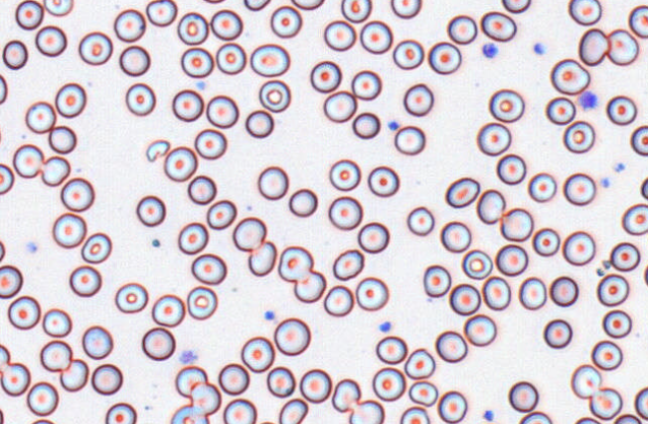PLT: (579, 91, 599, 110), (482, 43, 500, 60), (532, 40, 549, 55), (25, 241, 40, 256), (482, 408, 497, 422), (379, 321, 392, 335), (387, 120, 401, 132), (263, 309, 275, 321), (600, 177, 611, 190)
RBC: (550, 58, 590, 95), (273, 317, 310, 355), (249, 43, 289, 77), (277, 245, 313, 282), (240, 336, 274, 372), (52, 212, 86, 248), (488, 88, 524, 122), (578, 27, 609, 66), (232, 216, 266, 251), (371, 366, 405, 401), (163, 146, 197, 181), (328, 195, 362, 230), (476, 121, 511, 155), (607, 28, 639, 65), (499, 207, 533, 241), (141, 326, 175, 360), (60, 177, 94, 211), (151, 293, 185, 327), (78, 31, 112, 65), (562, 230, 595, 265), (54, 82, 86, 118), (293, 269, 326, 303), (589, 386, 622, 420), (7, 295, 40, 329), (205, 94, 238, 128), (355, 276, 388, 310), (427, 41, 461, 74), (26, 381, 58, 416), (299, 368, 331, 403), (191, 253, 226, 285), (445, 176, 480, 208), (570, 363, 601, 399), (463, 313, 496, 346), (495, 243, 528, 276), (359, 20, 392, 53), (596, 273, 629, 306), (562, 120, 595, 153), (563, 172, 596, 205), (189, 381, 221, 415), (113, 8, 145, 42), (12, 143, 43, 178), (257, 165, 288, 200), (186, 285, 217, 320), (480, 11, 516, 41), (39, 339, 72, 371), (174, 365, 207, 397), (258, 79, 290, 112), (323, 90, 356, 122), (270, 5, 302, 38), (82, 325, 113, 359), (114, 282, 148, 313), (177, 11, 208, 45), (247, 240, 276, 276), (476, 188, 505, 224), (69, 265, 101, 297), (332, 248, 364, 280), (435, 330, 467, 362), (367, 165, 399, 197), (357, 221, 389, 253), (171, 89, 203, 121), (218, 362, 249, 395), (34, 25, 67, 56), (323, 20, 356, 51), (310, 60, 341, 93), (177, 221, 208, 254), (209, 9, 242, 40), (180, 47, 213, 78), (329, 158, 360, 191), (0, 362, 30, 396), (59, 358, 89, 392), (125, 82, 155, 116), (481, 275, 510, 310), (91, 363, 122, 395), (507, 380, 538, 412), (449, 283, 480, 315), (440, 220, 471, 252), (194, 128, 226, 159), (25, 101, 56, 133), (215, 42, 246, 74), (437, 390, 467, 423), (403, 83, 433, 116), (404, 348, 435, 379), (591, 339, 622, 370), (80, 232, 111, 263), (119, 45, 150, 76), (323, 284, 353, 316), (393, 125, 425, 155), (392, 39, 424, 69), (422, 264, 451, 297), (518, 276, 546, 310), (40, 155, 70, 186), (461, 249, 492, 279), (496, 153, 526, 184), (609, 241, 640, 271), (351, 69, 381, 100), (446, 14, 477, 44), (606, 95, 637, 125), (375, 335, 407, 364), (136, 194, 165, 226), (206, 199, 236, 229), (266, 366, 295, 397), (549, 275, 578, 306), (42, 308, 72, 337), (543, 318, 572, 348), (187, 174, 216, 204), (288, 187, 317, 217), (602, 309, 632, 338), (527, 172, 556, 202), (348, 399, 384, 423), (15, 0, 43, 30), (545, 96, 575, 124), (621, 203, 647, 235), (145, 0, 177, 26), (223, 398, 256, 423), (568, 0, 601, 25), (48, 125, 76, 154), (532, 227, 560, 256), (245, 109, 273, 138), (406, 206, 434, 235), (352, 111, 380, 139), (408, 380, 438, 406), (278, 398, 308, 423), (2, 39, 27, 69), (0, 264, 22, 298), (170, 404, 208, 423), (340, 0, 371, 22), (104, 402, 136, 423), (628, 4, 647, 38), (390, 0, 421, 18), (630, 124, 647, 156), (399, 406, 429, 423), (42, 0, 73, 16), (634, 386, 647, 420), (0, 163, 14, 194), (518, 411, 551, 423), (501, 0, 531, 13), (290, 0, 324, 10), (243, 0, 270, 11), (613, 413, 641, 423), (0, 343, 10, 370), (0, 73, 7, 104), (640, 175, 648, 199), (574, 416, 600, 423), (643, 262, 648, 287), (0, 238, 5, 261), (201, 0, 226, 4), (256, 420, 277, 424), (0, 122, 2, 148)
Schistocyte: (333, 379, 362, 412), (145, 140, 171, 162)
